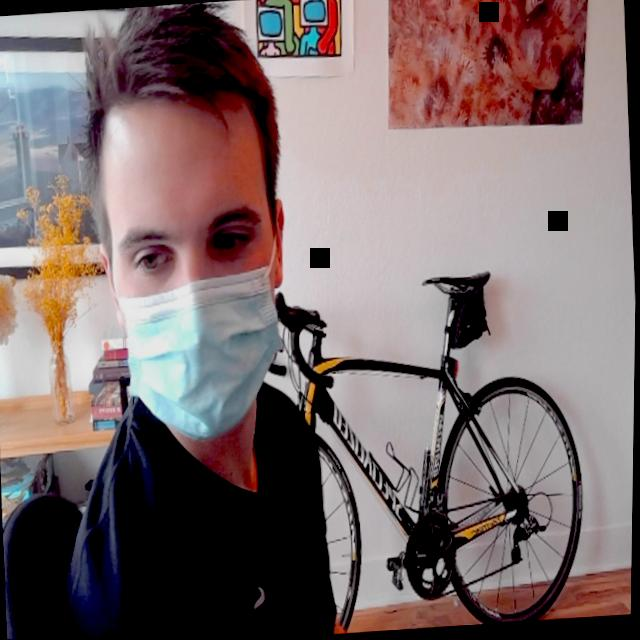Mask: (100, 92, 291, 446)
